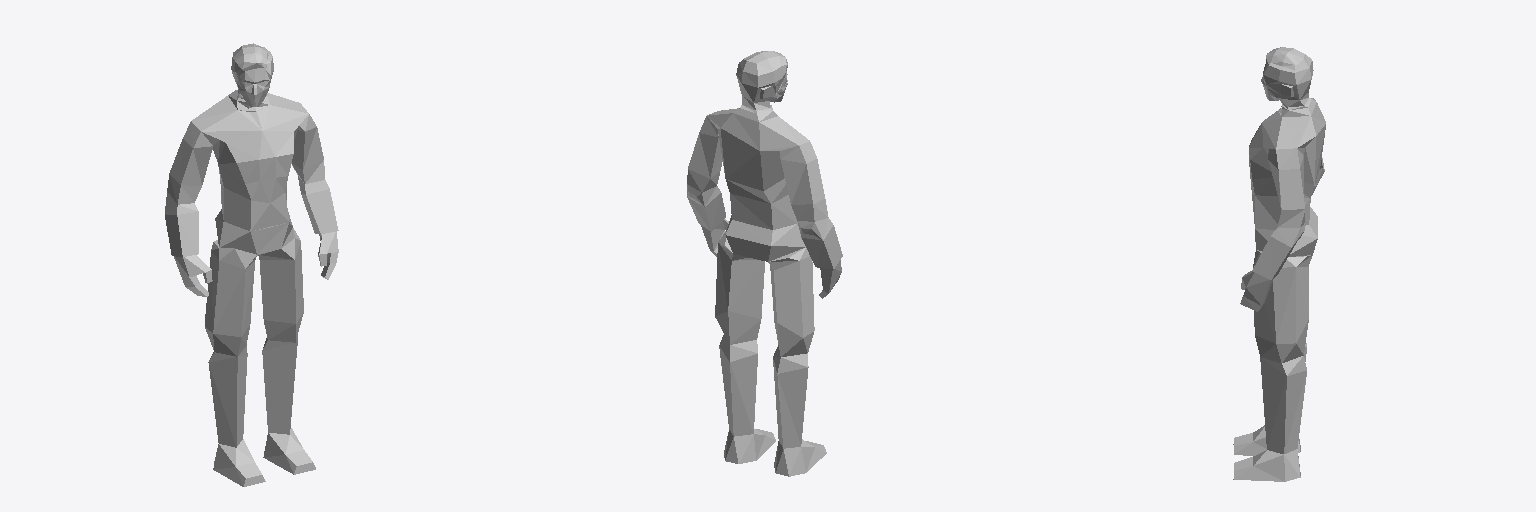
The model's file is Manuel89.obj.
3 renders of one model, left to right at view 1: azimuth 30°, elevation 25°; view 2: azimuth 150°, elevation 25°; view 3: azimuth 270°, elevation 25°, orthographic.
Visible parts, largest first — view 1: leon; view 2: leon; view 3: leon.
Part boxes in pixels (left/top/right/bottom): leon: left=165, top=43, right=338, bottom=486; leon: left=687, top=51, right=842, bottom=476; leon: left=1233, top=47, right=1325, bottom=481.
Size of the model in its own units: 4.66 by 12.19 by 2.5.